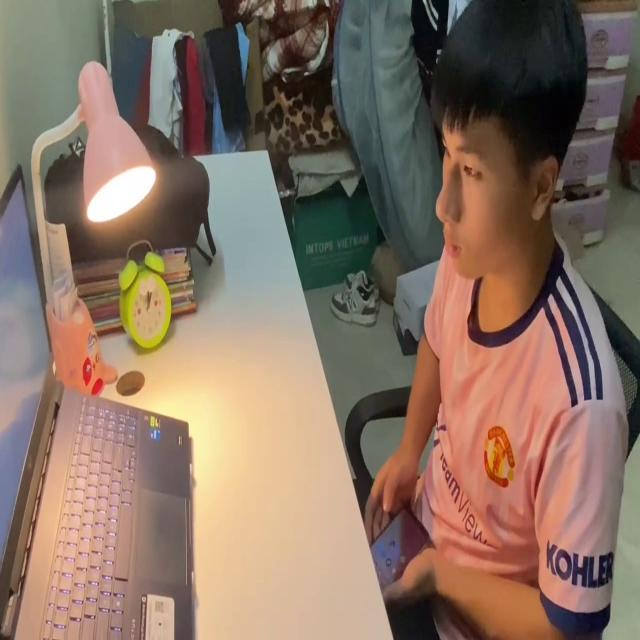laptop: (0, 161, 195, 640)
phone: (367, 491, 435, 589)
student: (364, 0, 631, 640)
